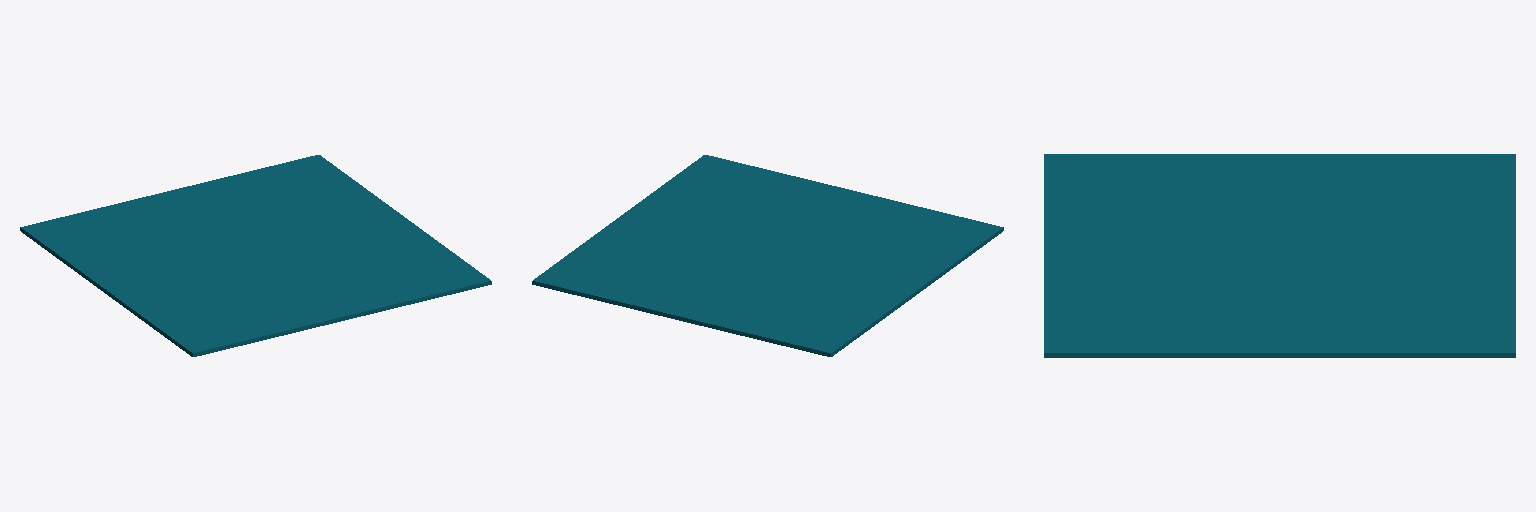
URDF robot description (box_bot):
<?xml version="1.0"?>
<robot name="box_bot">

  <material name="red">
      <color rgba="1.0 0.0 0.0 1"/>
  </material>

  <material name="green_light">
      <color rgba="0.0 1.0 0.0 1"/>
  </material>

  <material name="green_dark">
    <color rgba="0.0 0.5 0.0 1"/>
  </material>

  <material name="blue">
      <color rgba="0.0 0.0 1.0 1"/>
  </material>

  <material name="yellow">
      <color rgba="1.0 1.0 0.0 1"/>
  </material>

  <material name="black">
      <color rgba="0.0 0.0 0.0 1"/>
  </material>

  <material name="white">
      <color rgba="1.0 1.0 1.0 1"/>
  </material>

  <material name="box_bot_blue">
      <color rgba="0.088656 0.428691 0.491021 1"/>
  </material>

  <link name="base_link">
  </link>


  <!-- Body -->
  <link name="chassis">
    <visual>
      <geometry>
        <mesh filename="package://main_pkg/meshes/rotation_base.dae" scale="0.075 0.075 0.001"/>
      </geometry>
      <material name="box_bot_blue"/>
    </visual>

    <collision>
      <geometry>
        <box size="0.15 0.15 0.002"/>
      </geometry>


    </collision>

    <inertial>
      <mass value="0.1"/>
      <origin rpy="0 0 0" xyz="0 0 0"/>
      <inertia ixx="0.0000415" ixy="0" ixz="0" iyy="0.0000415" iyz="0" izz="0.0000415"/>  <!-- for a box: ixx = 0.083 * mass * (y*y + z*z) -->
    </inertial>


  </link>
  <gazebo reference="chassis">
    <kp>1000000.0</kp>
    <kd>1.0</kd>
    <mu1>0.8</mu1>
    <mu2>0.8</mu2>
    <maxVel>0.0</maxVel>
    <minDepth>0.001</minDepth>
    <static>1</static>
</gazebo>
<gazebo>
  <static>true</static>
</gazebo>

  <joint name="base_link_joint" type="fixed">
    <origin rpy="0 0 0" xyz="0 0 0" />
    <parent link="base_link" />
    <child link="chassis" />
  </joint>



</robot>

--- Render facts (derived) ---
Views: 3 orthographic renders of the robot side by side, from view 1: azimuth 30°, elevation 25°; view 2: azimuth 150°, elevation 25°; view 3: azimuth 270°, elevation 25°.
Model box_bot with 2 links and 1 joints (1 fixed), rooted at base_link, posed every joint at zero.
Visible links, largest first — view 1: chassis; view 2: chassis; view 3: chassis.
Boxes of the visible links, x1,y1,x2,y2 form: chassis: (20,155,491,356); chassis: (532,155,1003,356); chassis: (1044,154,1515,357).
Bounding box of the posed robot: 0.15 × 0.15 × 0.002 m (x, y, z).
Meshes: 1 distinct files referenced, 1 mesh visuals loaded (1 Collada DAE).